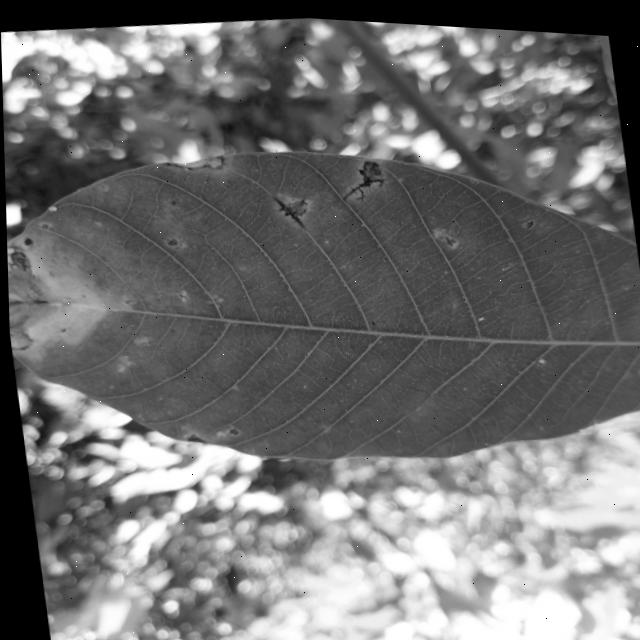Colletotrichum: (21, 237, 33, 246), (534, 351, 543, 358), (40, 222, 47, 229), (123, 298, 127, 303), (127, 297, 132, 301)
Corynespora: (337, 153, 388, 200), (272, 190, 310, 229), (6, 243, 30, 274)
Leaf-Blight: (6, 275, 36, 351), (339, 169, 388, 200), (167, 151, 220, 170)
